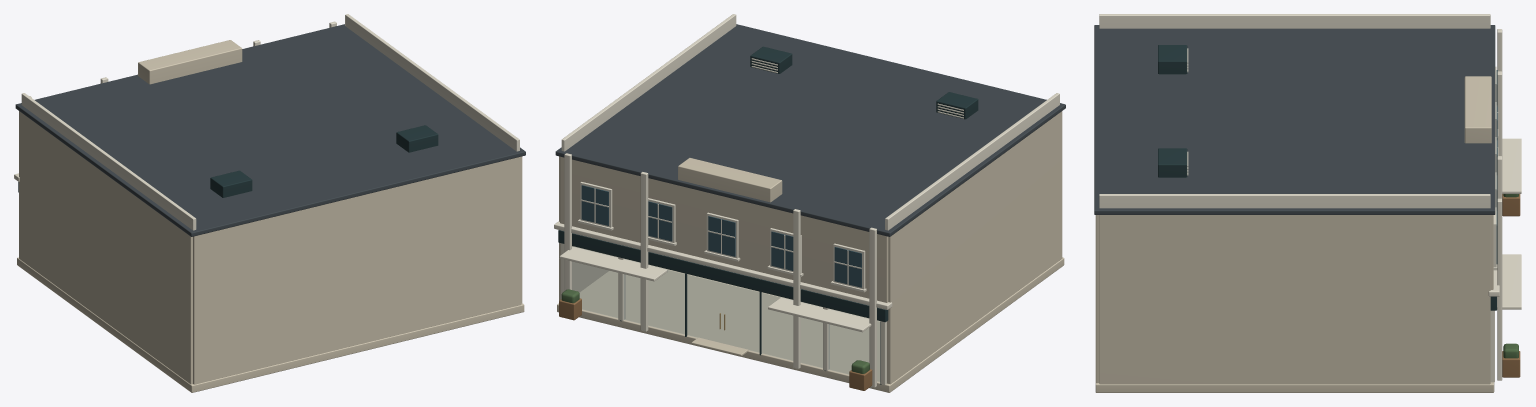
Rendered from decoRestaurant.glb.
3 views of the same model, side by side, from view 1: azimuth 30°, elevation 25°; view 2: azimuth 150°, elevation 25°; view 3: azimuth 270°, elevation 25° (orthographic). The views are drawn at different scales.
Visible parts, largest first — view 1: Limestone, Slate roof, Ivory trim, Dark metal; view 2: Limestone, Slate roof, Ivory trim, Clear storefront glazing, Dark metal, Window glass, Cedar timber; view 3: Limestone, Slate roof, Ivory trim, Dark metal, Cedar timber, Window glass.
Part boxes in pixels (bbox=[...]): Limestone: bbox=[17, 40, 524, 392]; Slate roof: bbox=[15, 24, 525, 236]; Ivory trim: bbox=[14, 14, 519, 230]; Dark metal: bbox=[18, 125, 438, 197]; Limestone: bbox=[557, 111, 1064, 392]; Slate roof: bbox=[555, 24, 1065, 236]; Ivory trim: bbox=[554, 14, 1059, 387]; Clear storefront glazing: bbox=[572, 262, 879, 381]; Dark metal: bbox=[558, 46, 978, 384]; Window glass: bbox=[581, 185, 861, 287]; Cedar timber: bbox=[559, 298, 872, 390]; Limestone: bbox=[1095, 76, 1494, 392]; Slate roof: bbox=[1094, 25, 1495, 214]; Ivory trim: bbox=[1099, 14, 1521, 382]; Dark metal: bbox=[1158, 45, 1496, 310]; Cedar timber: bbox=[1502, 194, 1520, 377]; Window glass: bbox=[1496, 70, 1497, 263].
Bounding box in the file's own units: 18 × 8.98 × 17.47.
